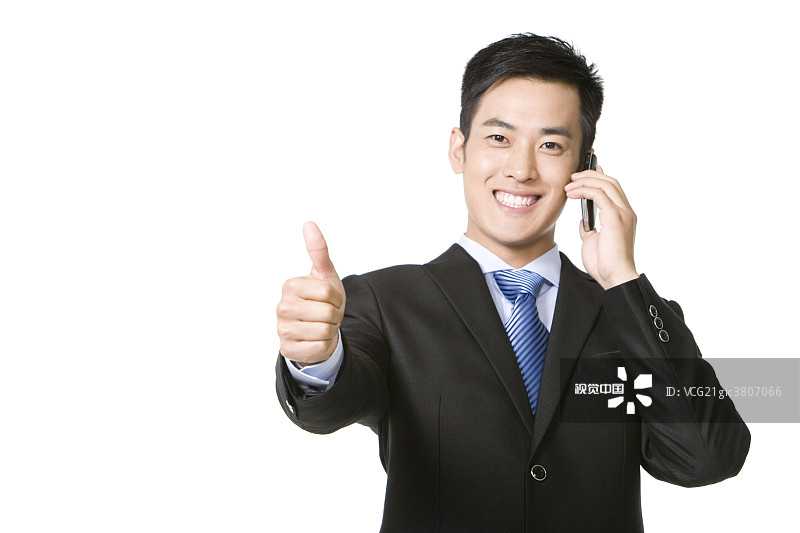calling: (551, 143, 667, 297)
no-phone: (255, 215, 370, 382)
